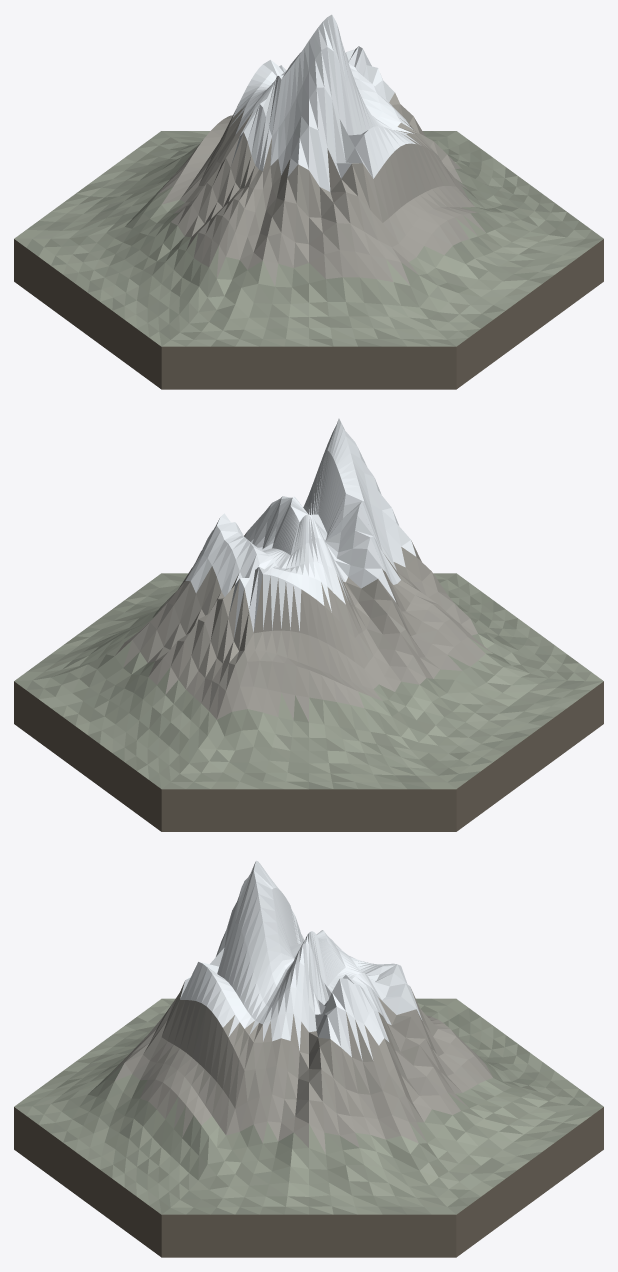
The model's file is TERRAIN_TUNDRA_MOUNTAIN_v00.fbx.
3 views of the same model, one above another, from view 1: azimuth 30°, elevation 25°; view 2: azimuth 150°, elevation 25°; view 3: azimuth 270°, elevation 25° (orthographic).
Visible parts, largest first — view 1: TERRAIN_TUNDRA_MOUNTAIN_v00; view 2: TERRAIN_TUNDRA_MOUNTAIN_v00; view 3: TERRAIN_TUNDRA_MOUNTAIN_v00.
Boxes of the visible parts, x1=… form: TERRAIN_TUNDRA_MOUNTAIN_v00: x1=14, y1=14, x2=603, y2=389; TERRAIN_TUNDRA_MOUNTAIN_v00: x1=14, y1=418, x2=603, y2=831; TERRAIN_TUNDRA_MOUNTAIN_v00: x1=14, y1=860, x2=603, y2=1257.
Bounding box in the file's own units: 173 × 107 × 200.
